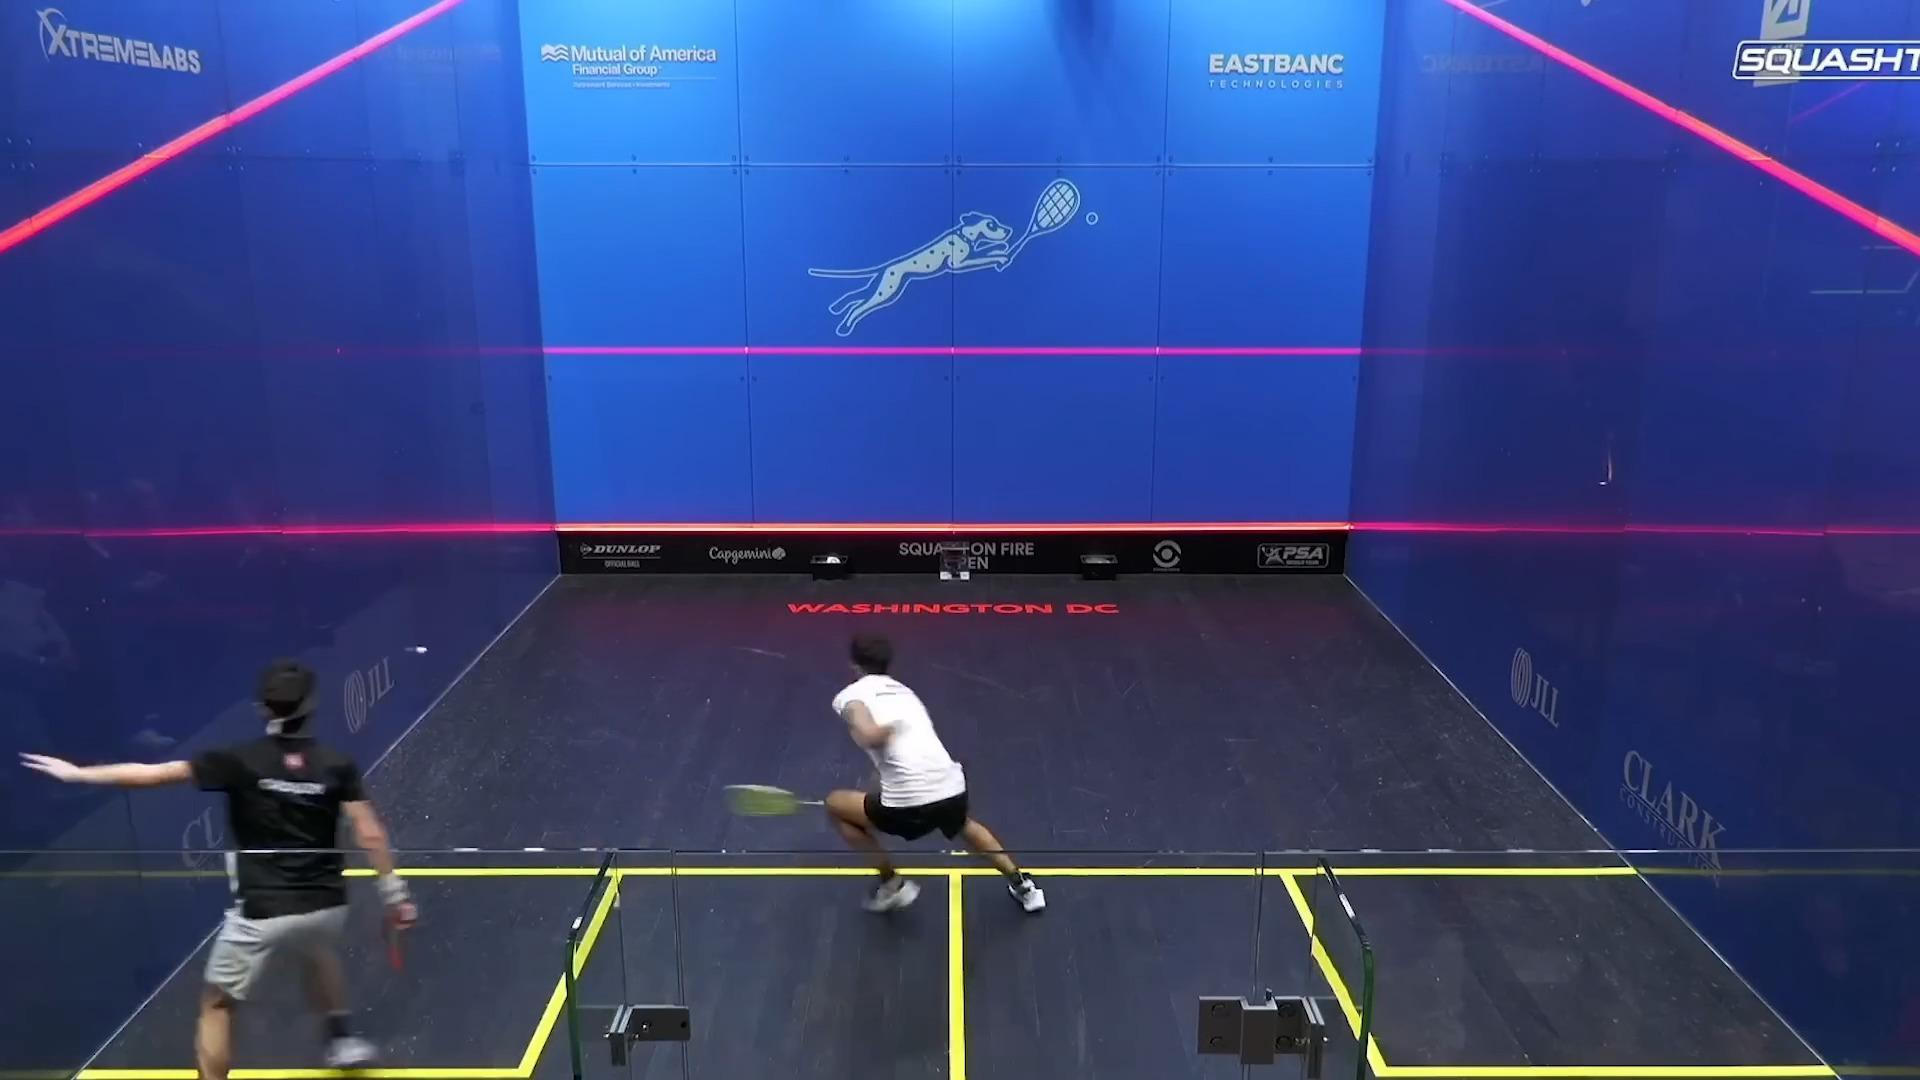Squash-Ball: (404, 632, 440, 671)
